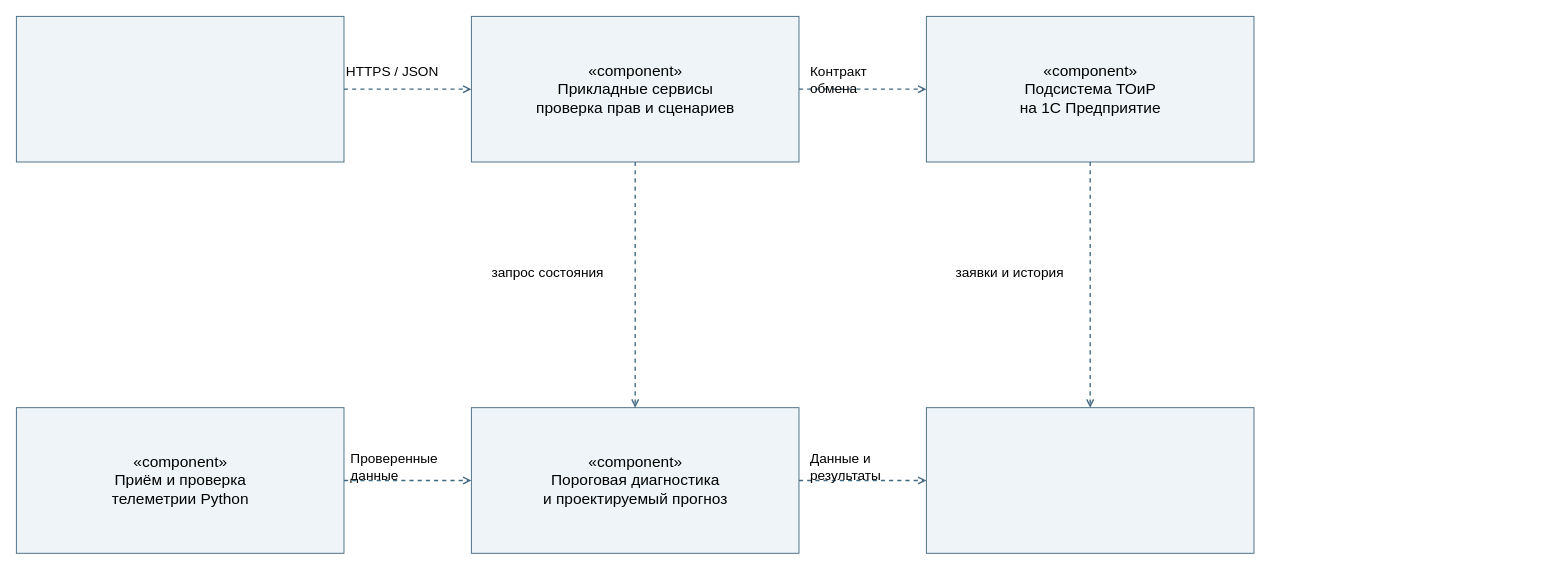
Image size: 1561x569. Some labels were removed from this diagram. Here are the shapes that lost their labels. From the top down, the box of each, then its label:
(15, 15, 344, 162): «component» Интерфейс мониторинга и рабочих мест
(925, 407, 1254, 553): «component» Доступ к данным Repository
